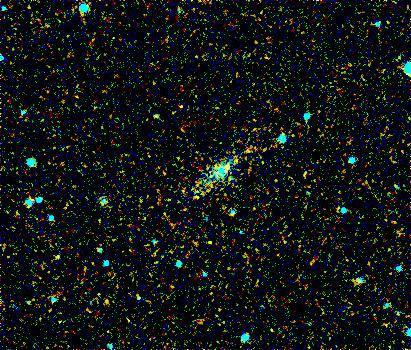star: (182, 180, 212, 210)
